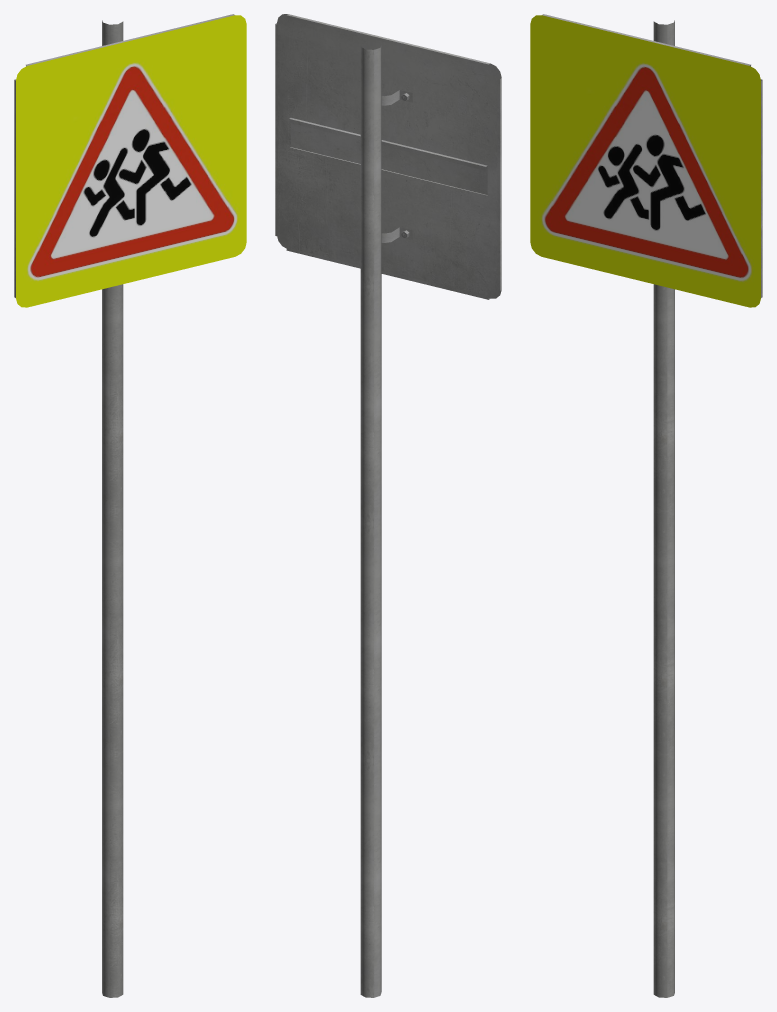
File: sign_children.glb
3 renders of one model, left to right at view 1: azimuth 30°, elevation 25°; view 2: azimuth 150°, elevation 25°; view 3: azimuth 330°, elevation 25°, orthographic. The views are drawn at different scales.
Visible parts, largest first — view 1: Children_Kids_0, __Pole_MetalBack_0, Children_MetalBack_0; view 2: Children_MetalBack_0, __Pole_MetalBack_0; view 3: Children_Kids_0, __Pole_MetalBack_0, Children_MetalBack_0.
Part boxes in pixels (x1=…): Children_Kids_0: x1=16, y1=15, x2=246, y2=307; __Pole_MetalBack_0: x1=102, y1=20, x2=123, y2=997; Children_MetalBack_0: x1=14, y1=14, x2=234, y2=297; Children_MetalBack_0: x1=275, y1=14, x2=501, y2=299; __Pole_MetalBack_0: x1=360, y1=44, x2=381, y2=997; Children_Kids_0: x1=530, y1=15, x2=760, y2=307; __Pole_MetalBack_0: x1=653, y1=20, x2=674, y2=997; Children_MetalBack_0: x1=542, y1=14, x2=762, y2=297.
Bounding box in the file's own units: 0.72 × 2.9 × 0.1311.
Materials: 2 (2 with a texture image).
